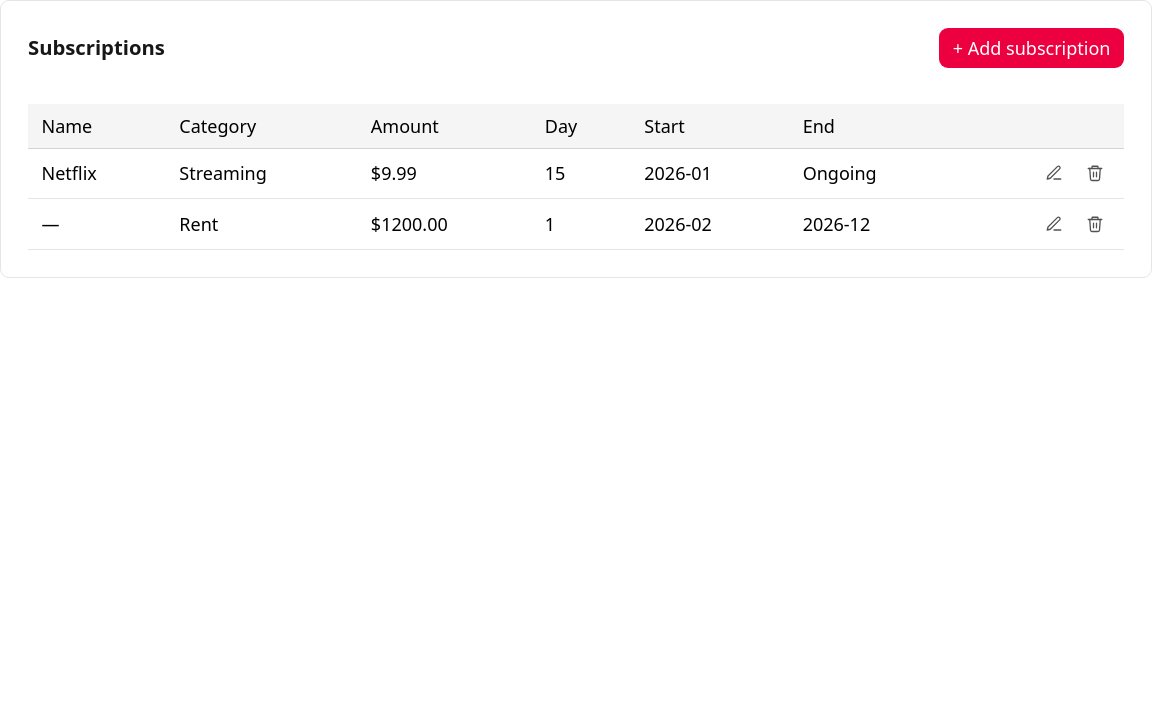
Subscriptions › falls back to the category name in the delete confirmation when the subscription has no name
expect the text "Netflix" is shown: met, box 28,148 -> 166,199
Click the button named "Delete subscription" in the row of "Rent" at (1095, 224), box 1079,208 -> 1110,240
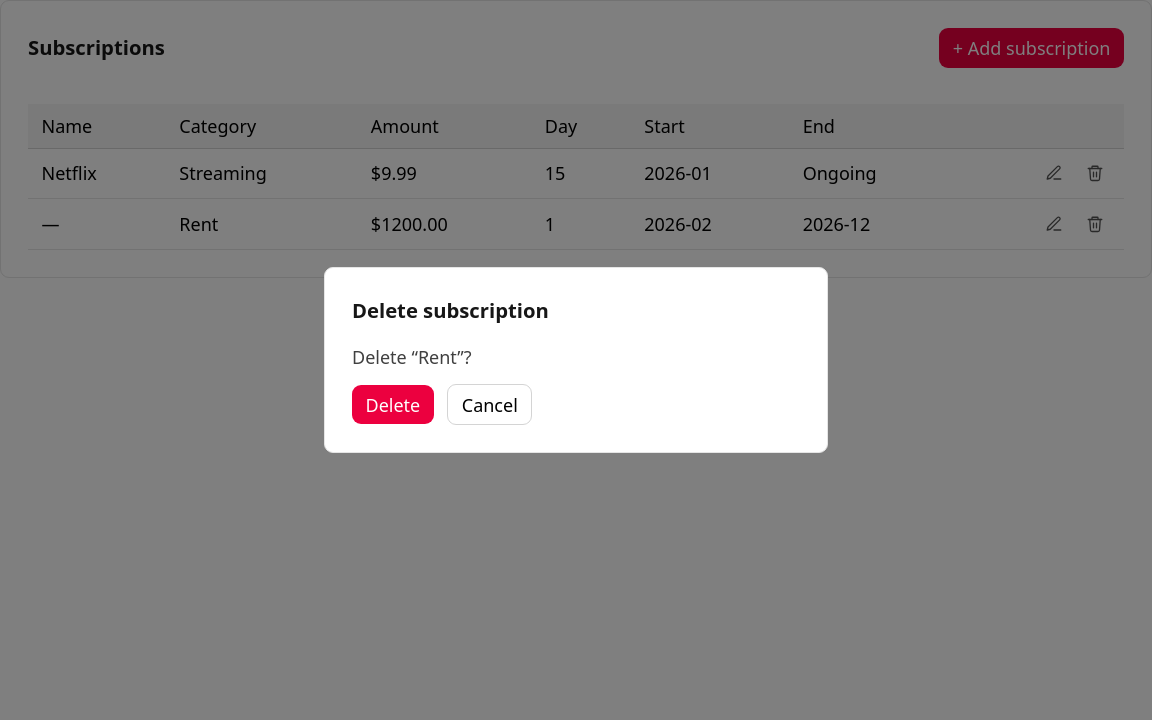
expect the text "Delete “Rent”?" is shown: met, box 352,345 -> 472,369
